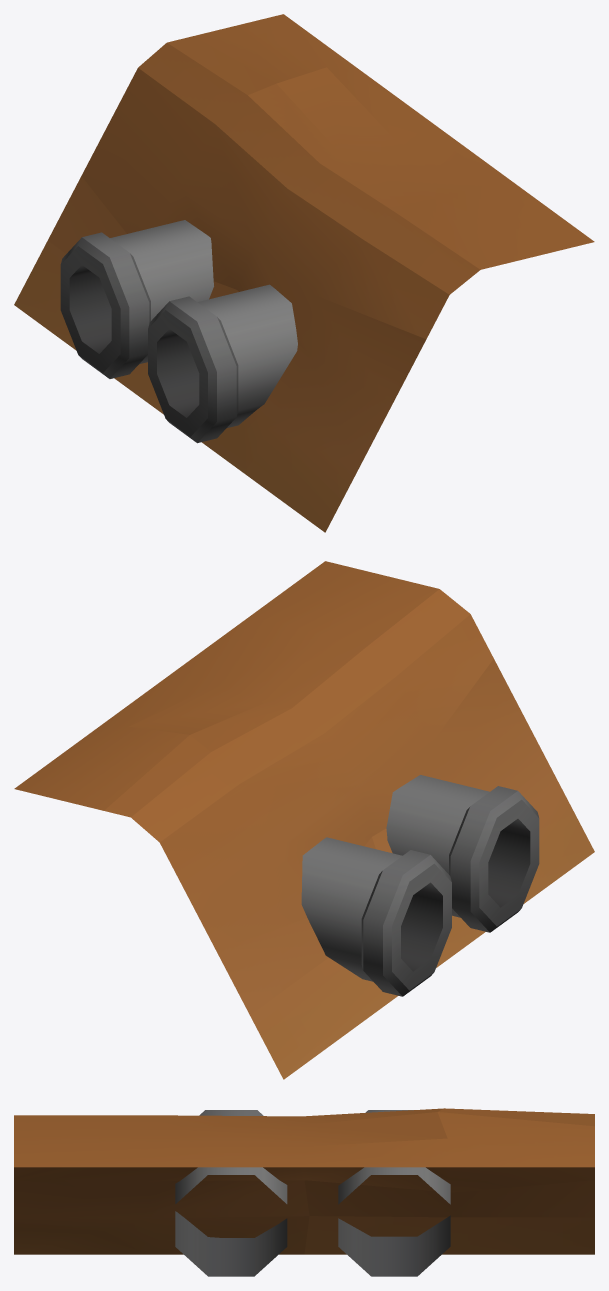
The model's file is cGround_C_Side_3__.obj.
The picture shows the model from 3 angles, top to bottom: view 1: azimuth 30°, elevation 25°; view 2: azimuth 150°, elevation 25°; view 3: azimuth 270°, elevation 25°; orthographic projection. The views are drawn at different scales.
Parts seen in each view (by area): view 1: cGround_C_Side_3__; view 2: cGround_C_Side_3__; view 3: cGround_C_Side_3__.
Boxes of the visible parts, bbox=[...] form: cGround_C_Side_3__: bbox=[14, 14, 594, 532]; cGround_C_Side_3__: bbox=[14, 561, 594, 1079]; cGround_C_Side_3__: bbox=[14, 1108, 594, 1276].
Bounding box in the file's own units: 4.46 × 3.4 × 8.
